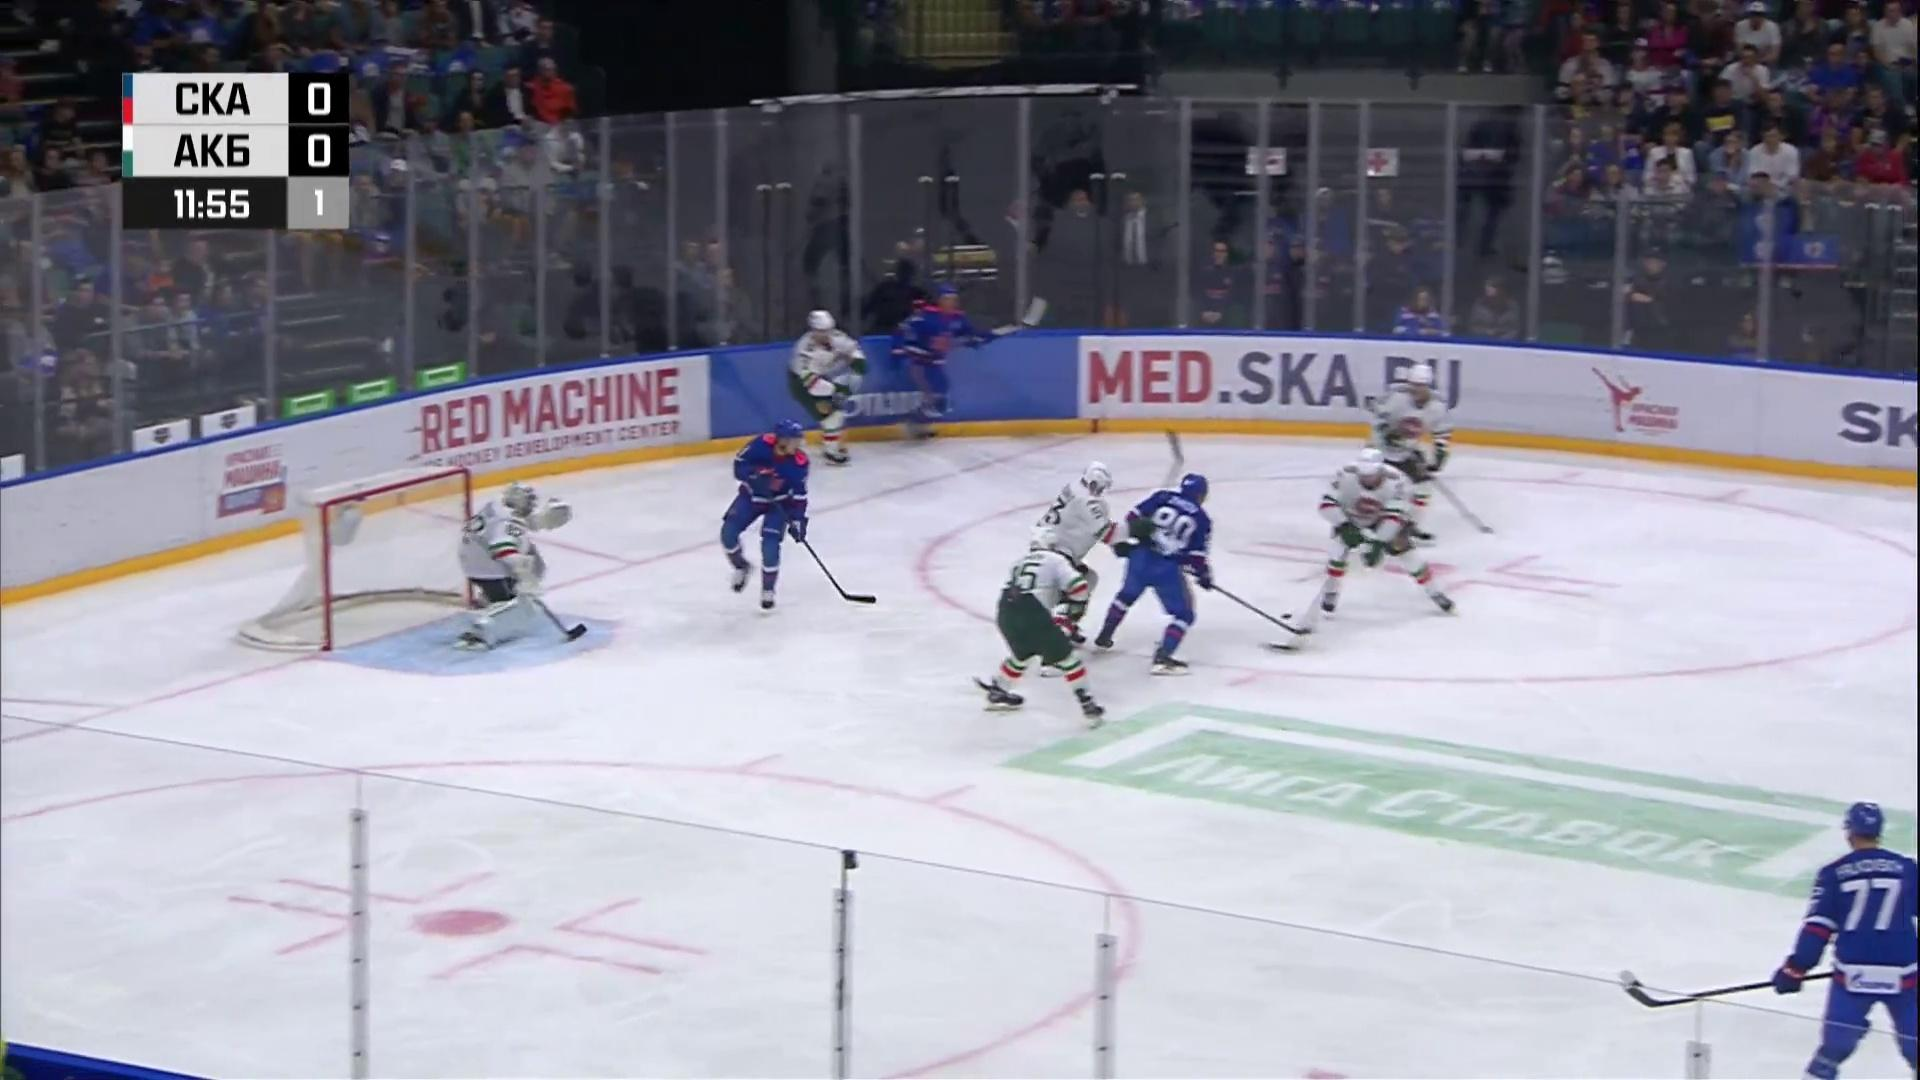ball: (1280, 613, 1292, 620)
